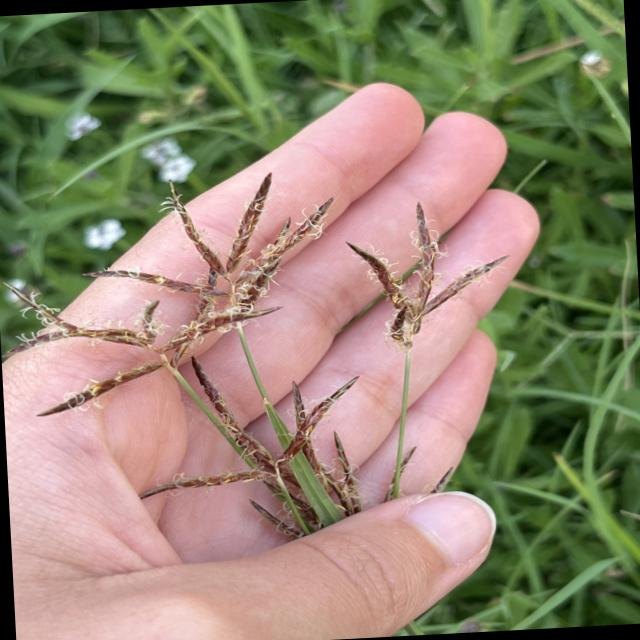cyperus: (0, 156, 530, 561)
